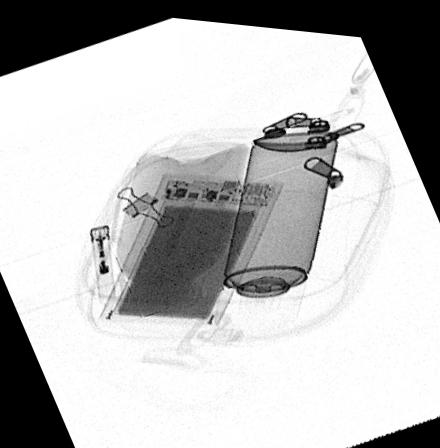Lighter: (91, 222, 117, 302)
Powerbank: (97, 170, 284, 321)
Sprayer: (217, 124, 341, 321)
